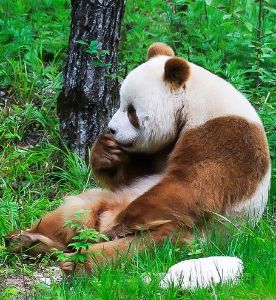bear: (19, 41, 268, 252)
